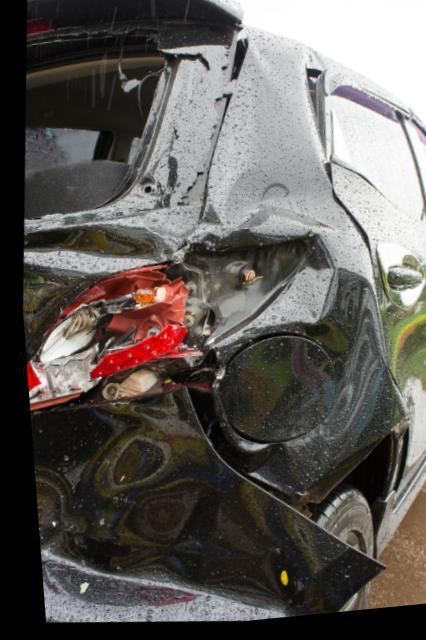dent: (25, 416, 277, 625), (175, 174, 345, 348), (19, 225, 165, 275), (239, 450, 283, 494)
dislocated part: (24, 394, 374, 625)
lamp broken: (21, 262, 204, 409)
